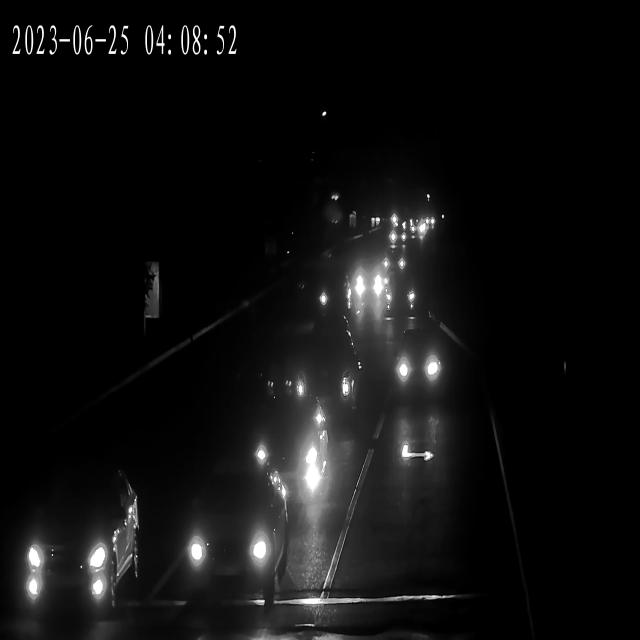Car: (2, 471, 144, 612), (171, 484, 287, 595), (245, 424, 333, 526), (275, 343, 360, 412), (390, 334, 450, 398), (345, 262, 389, 303), (315, 266, 353, 312), (377, 277, 416, 316), (386, 231, 406, 248), (408, 223, 428, 238), (408, 226, 427, 241)
